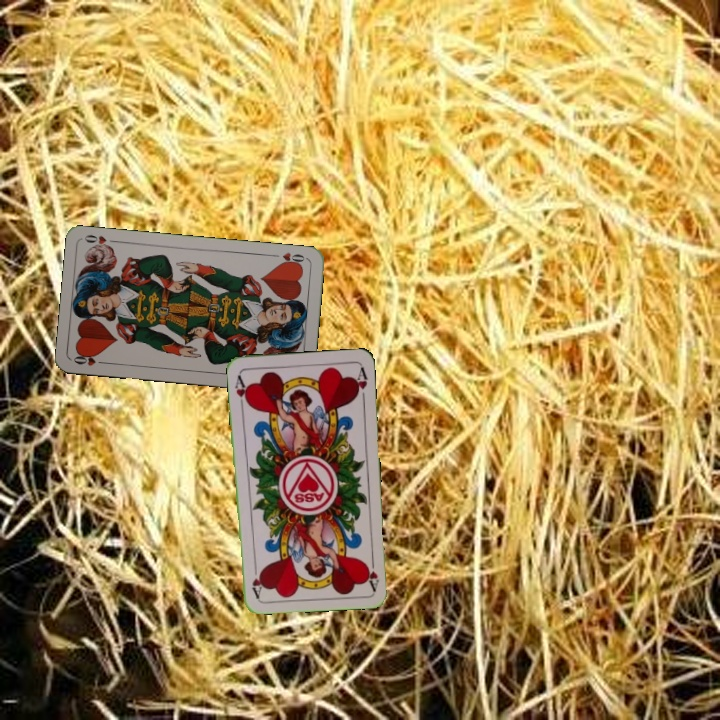HA: (361, 551, 381, 592), (230, 371, 251, 410)
HO: (268, 249, 309, 268), (69, 350, 110, 369)
